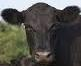muzzles: (31, 50, 53, 63)
